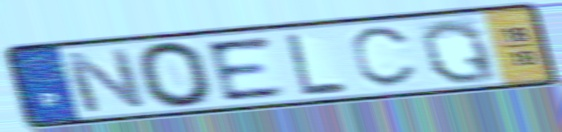C: (348, 24, 421, 90)
E: (201, 34, 291, 104)
L: (282, 30, 351, 97)
N: (58, 46, 151, 115)
O: (133, 39, 218, 110)
Q: (417, 16, 502, 86)
